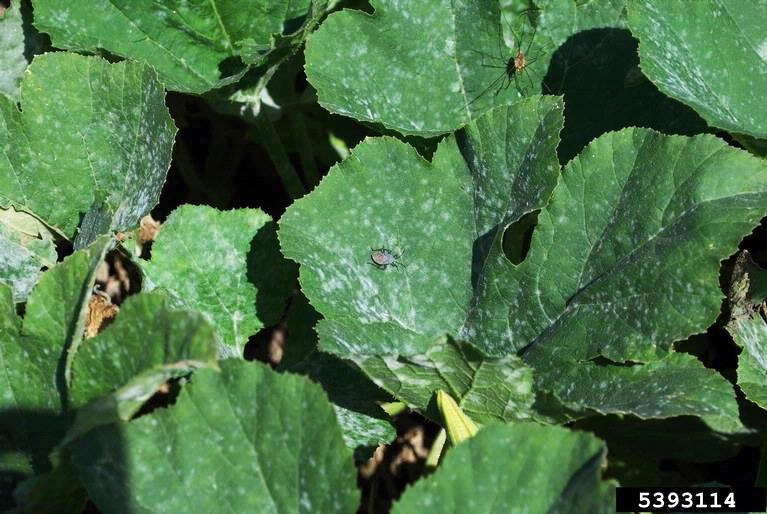Squash Powdery mildew leaf: (507, 124, 767, 410), (267, 122, 533, 394), (26, 43, 183, 244), (314, 1, 519, 142), (142, 195, 294, 354)
